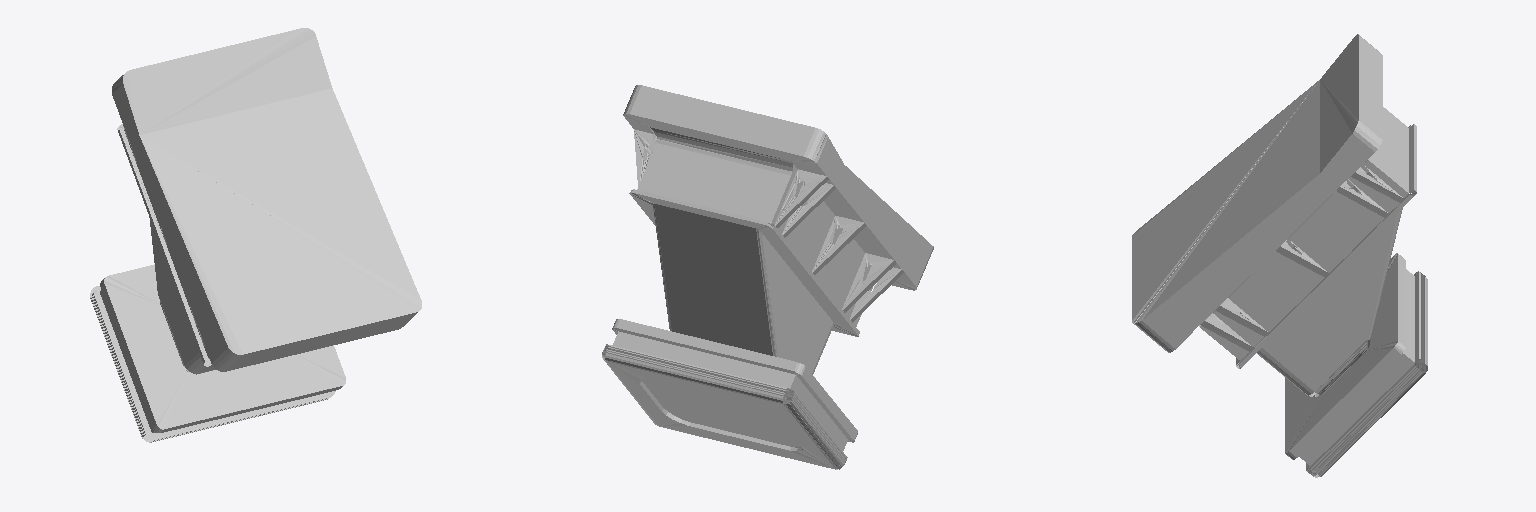
File: control_box_3.obj
3 views of the same model, side by side, from view 1: azimuth 30°, elevation 25°; view 2: azimuth 150°, elevation 25°; view 3: azimuth 270°, elevation 25° (orthographic).
Parts seen in each view (by area): view 1: control_box_3; view 2: control_box_3; view 3: control_box_3.
Part boxes in pixels (bbox=[...]): control_box_3: bbox=[90, 28, 421, 442]; control_box_3: bbox=[602, 85, 933, 469]; control_box_3: bbox=[1132, 34, 1427, 477].
Bounding box in the file's own units: 0.0003 × 0.0006 × 0.0004.